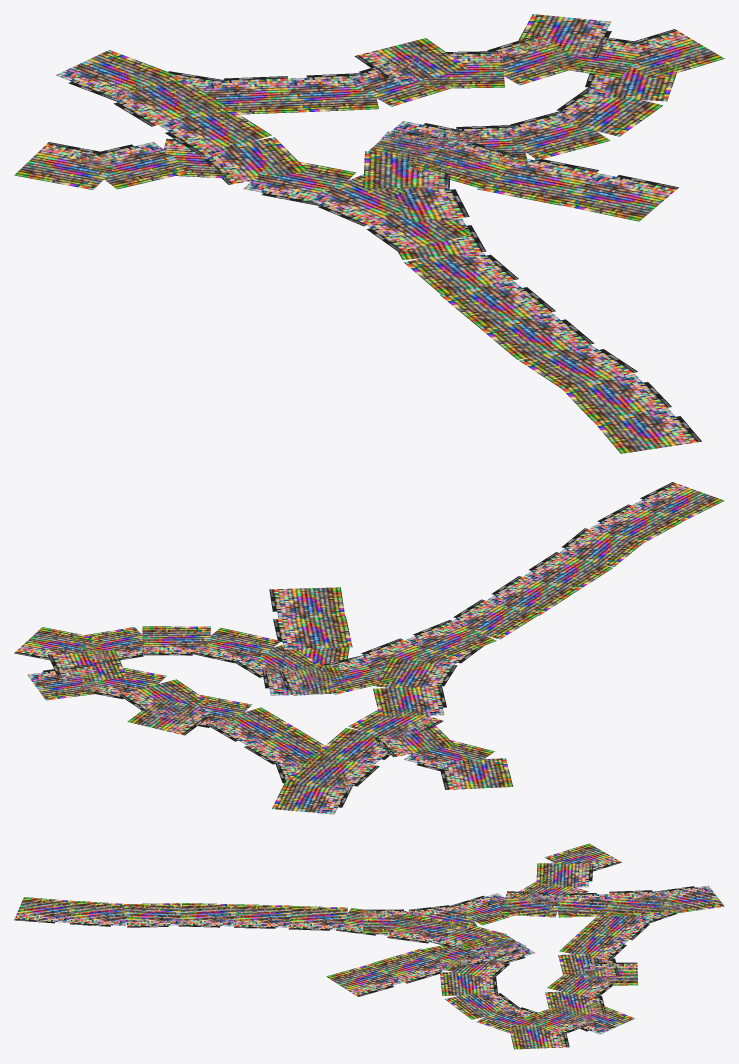
The model's file is Path 1.fbx.
3 views of the same model, one above another, from view 1: azimuth 30°, elevation 25°; view 2: azimuth 150°, elevation 25°; view 3: azimuth 270°, elevation 25° (orthographic). The views are drawn at different scales.
Visible parts, largest first — view 1: Plane.051; view 2: Plane.051; view 3: Plane.051.
Boxes of the visible parts, x1=… form: Plane.051: x1=14, y1=14, x2=724, y2=453; Plane.051: x1=14, y1=482, x2=724, y2=814; Plane.051: x1=14, y1=843, x2=724, y2=1049.
Size of the model in its own units: 5607 by 0 by 8177.
